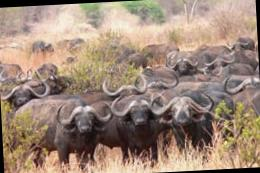Buffalo: (5, 13, 260, 152)
